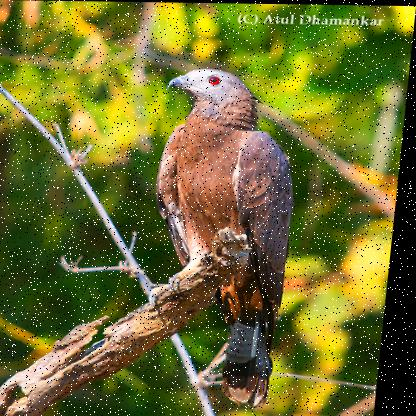Burung: (129, 58, 328, 403)
